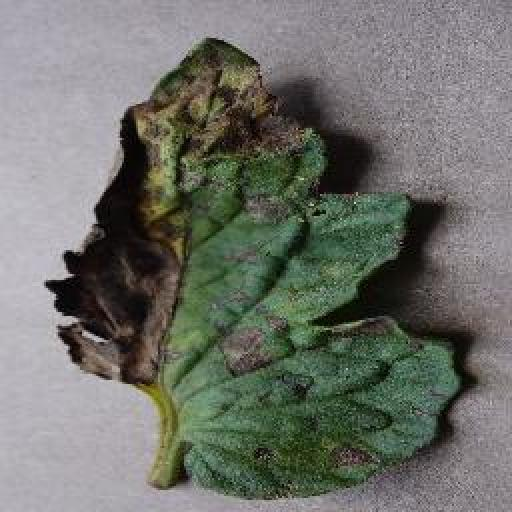Early Blight: (44, 33, 463, 499)
